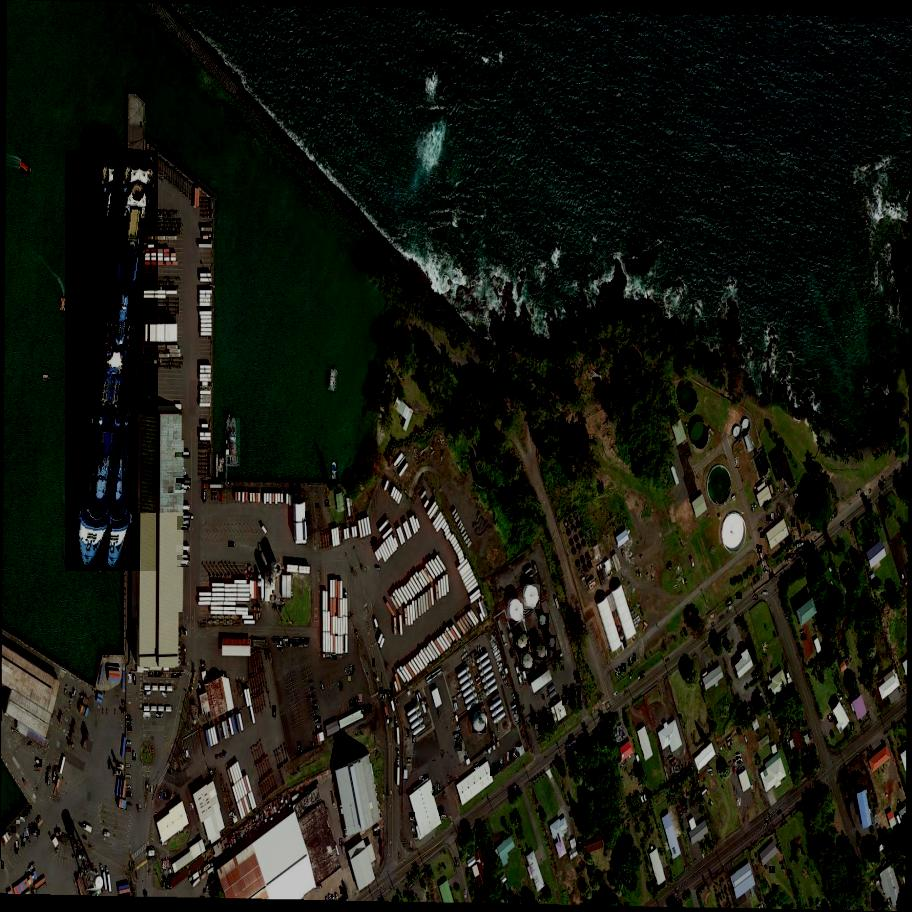large-vehicle: (177, 518, 191, 528), (176, 478, 192, 486), (172, 466, 186, 475), (177, 544, 191, 552), (176, 484, 189, 491), (177, 560, 190, 567), (178, 505, 190, 512), (175, 452, 190, 457), (638, 674, 647, 682), (177, 555, 189, 559), (128, 674, 133, 683), (143, 713, 151, 718), (144, 691, 152, 696), (173, 473, 186, 476), (177, 517, 189, 520), (178, 526, 188, 529), (579, 687, 581, 701), (175, 491, 186, 493), (156, 713, 160, 718), (161, 692, 166, 696), (134, 676, 136, 685), (127, 717, 130, 720)
ship: (65, 147, 159, 573), (225, 417, 241, 467), (329, 368, 337, 391), (18, 162, 32, 175), (216, 457, 225, 473), (60, 298, 68, 313), (332, 463, 338, 481), (92, 292, 98, 309), (87, 342, 93, 357), (751, 781, 758, 792), (89, 410, 93, 423), (221, 452, 224, 465), (43, 376, 48, 378)
small-vehicle: (52, 765, 60, 782), (373, 673, 382, 684), (492, 763, 499, 774), (35, 760, 44, 768), (165, 879, 172, 889), (314, 716, 322, 724), (371, 538, 378, 547), (387, 690, 394, 699), (454, 857, 460, 867), (305, 517, 312, 525), (305, 511, 312, 519), (728, 604, 735, 612), (453, 732, 461, 739), (455, 744, 463, 751), (513, 747, 520, 755), (756, 545, 763, 553), (198, 683, 204, 692), (621, 663, 627, 672), (361, 705, 367, 714), (850, 722, 855, 732), (206, 884, 212, 892), (735, 593, 743, 599), (497, 761, 503, 769), (455, 740, 463, 746), (803, 720, 809, 728), (367, 705, 373, 713), (357, 695, 363, 703), (737, 798, 742, 807), (203, 491, 207, 502), (10, 827, 16, 834), (35, 829, 41, 836), (29, 827, 35, 834), (154, 671, 160, 678), (228, 541, 235, 547), (760, 532, 766, 539), (766, 515, 772, 522), (801, 635, 808, 641), (769, 866, 775, 873), (364, 706, 370, 713), (190, 802, 195, 810), (735, 457, 739, 467), (509, 751, 514, 759), (791, 518, 796, 526), (464, 890, 469, 898), (298, 742, 302, 752), (20, 817, 26, 823), (21, 837, 25, 846), (48, 766, 50, 784), (514, 715, 520, 721), (34, 766, 41, 771), (24, 830, 29, 837), (132, 753, 137, 760), (811, 525, 816, 532), (350, 700, 355, 707), (438, 807, 445, 812), (340, 888, 345, 895), (273, 706, 276, 717), (164, 791, 168, 799), (163, 861, 167, 869), (618, 666, 622, 674), (513, 749, 517, 757), (881, 740, 885, 748), (23, 811, 29, 816), (736, 757, 742, 762), (79, 850, 85, 855), (33, 823, 38, 829), (419, 777, 425, 782), (857, 491, 863, 496), (771, 513, 776, 519), (313, 702, 319, 707), (337, 654, 343, 659), (374, 831, 380, 836), (26, 828, 30, 835), (829, 714, 833, 721), (353, 699, 357, 706), (406, 730, 410, 737), (409, 841, 413, 848), (32, 824, 35, 833), (186, 749, 189, 758), (350, 665, 353, 674), (15, 821, 20, 826), (127, 726, 132, 731), (534, 722, 539, 727), (230, 813, 235, 818), (1, 861, 4, 869), (303, 639, 309, 643), (326, 500, 330, 506), (166, 856, 169, 864), (562, 697, 565, 705), (288, 644, 294, 648), (381, 688, 383, 699), (166, 860, 169, 867), (633, 654, 636, 661), (384, 690, 387, 697), (413, 736, 416, 743), (26, 807, 30, 812), (127, 747, 131, 752), (127, 802, 132, 806), (127, 792, 131, 797), (34, 832, 38, 837), (293, 643, 298, 647), (708, 769, 713, 773), (316, 726, 321, 730), (348, 676, 352, 681), (475, 764, 479, 769), (735, 754, 741, 757), (16, 844, 18, 853), (507, 752, 509, 761), (869, 750, 871, 759), (871, 747, 874, 753), (762, 592, 768, 595), (440, 810, 443, 816), (28, 805, 32, 809), (152, 785, 154, 793), (219, 492, 221, 500), (299, 643, 303, 647), (501, 758, 503, 766), (339, 683, 341, 691), (433, 787, 435, 795), (128, 720, 131, 725), (148, 673, 153, 676), (283, 639, 288, 642), (196, 711, 198, 718), (16, 841, 18, 848), (23, 835, 25, 842), (771, 514, 773, 521), (497, 763, 499, 770), (340, 839, 342, 846), (373, 659, 375, 666), (171, 675, 177, 677), (126, 764, 130, 767), (289, 640, 293, 643), (299, 639, 303, 642), (316, 503, 319, 507), (753, 677, 756, 681), (752, 672, 756, 675), (764, 645, 768, 648), (753, 596, 757, 599), (313, 706, 317, 709), (345, 669, 347, 675), (414, 834, 418, 837), (375, 566, 380, 568), (630, 658, 632, 663), (332, 655, 337, 657), (282, 645, 287, 647), (410, 813, 415, 815), (413, 827, 415, 832), (126, 786, 129, 789), (127, 741, 130, 744), (149, 397, 152, 400), (738, 760, 741, 763), (442, 816, 445, 819), (168, 791, 169, 799), (536, 725, 538, 729), (357, 698, 358, 706), (277, 646, 281, 648), (438, 784, 439, 791), (29, 742, 31, 745), (629, 659, 630, 665), (616, 669, 617, 675), (899, 799, 900, 805), (763, 655, 765, 658), (841, 523, 844, 525), (327, 655, 329, 658), (391, 684, 392, 690), (317, 887, 320, 889), (735, 789, 736, 794), (809, 731, 810, 736), (491, 768, 492, 773), (294, 639, 295, 643), (126, 776, 130, 777), (321, 684, 322, 688), (306, 644, 306, 644), (353, 669, 353, 673), (411, 818, 412, 818)
storage-tank: (508, 597, 526, 623), (524, 585, 542, 610), (514, 632, 531, 651), (519, 652, 535, 671), (472, 712, 486, 732), (534, 643, 547, 659), (545, 635, 557, 650), (539, 614, 548, 628)
